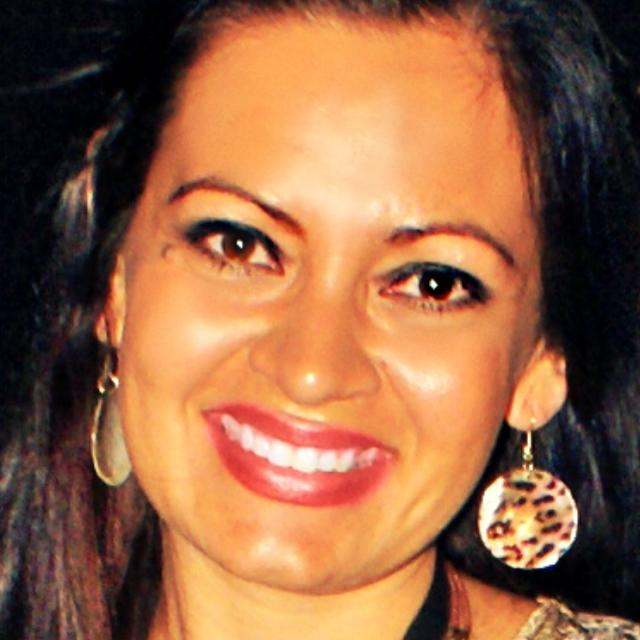Normal: (112, 14, 556, 587)
